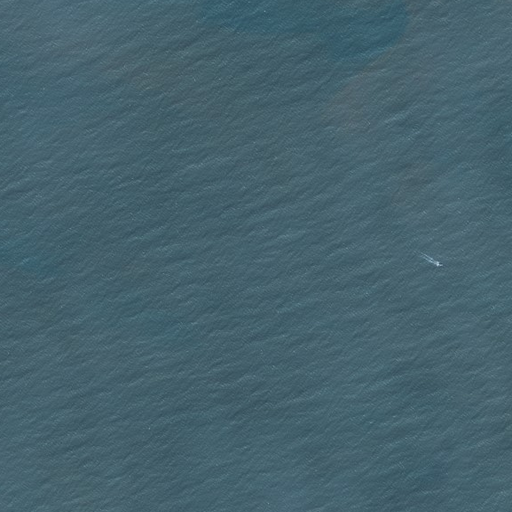ship: (432, 259, 446, 268)
